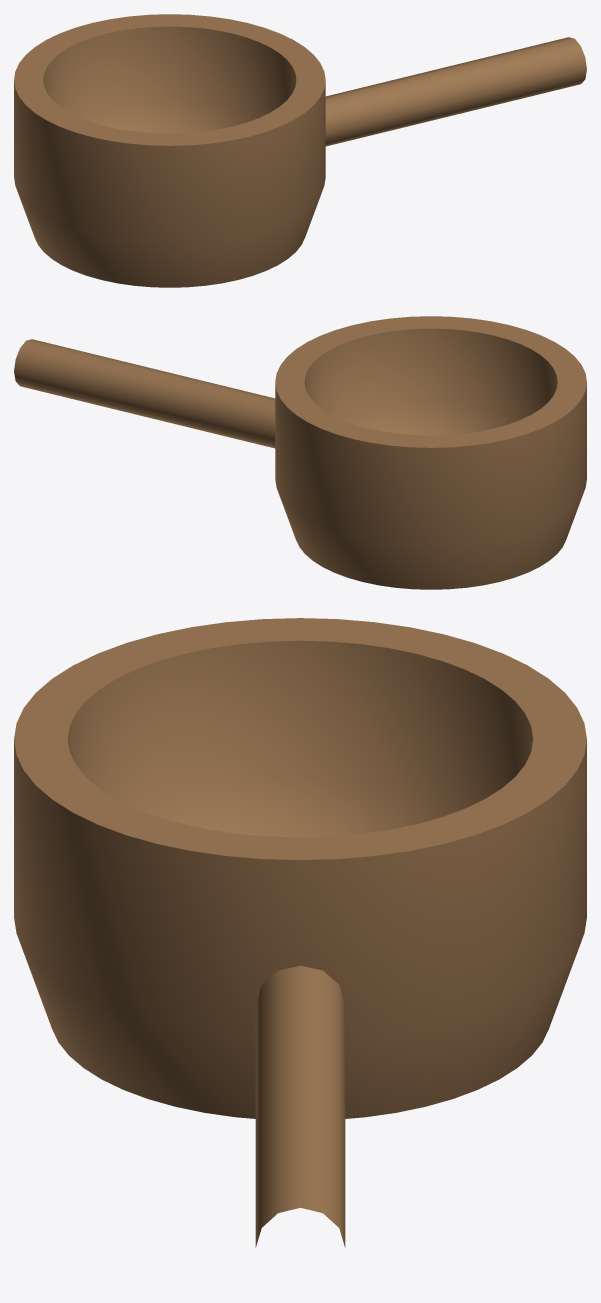
The model's file is glassblowing-studio-and-gallery-wooden-shaping-block-4c5002ec__29594.glb.
3 views of the same model, one above another, from view 1: azimuth 30°, elevation 25°; view 2: azimuth 150°, elevation 25°; view 3: azimuth 270°, elevation 25° (orthographic). The views are drawn at different scales.
Visible parts, largest first — view 1: wooden-shaping-block; view 2: wooden-shaping-block; view 3: wooden-shaping-block.
Boxes of the visible parts, x1,y1,x2,y2 form: wooden-shaping-block: (14, 14, 586, 287); wooden-shaping-block: (14, 316, 586, 589); wooden-shaping-block: (14, 618, 586, 1247).
Size of the model in its own units: 0.64 by 0.17 by 0.32.
